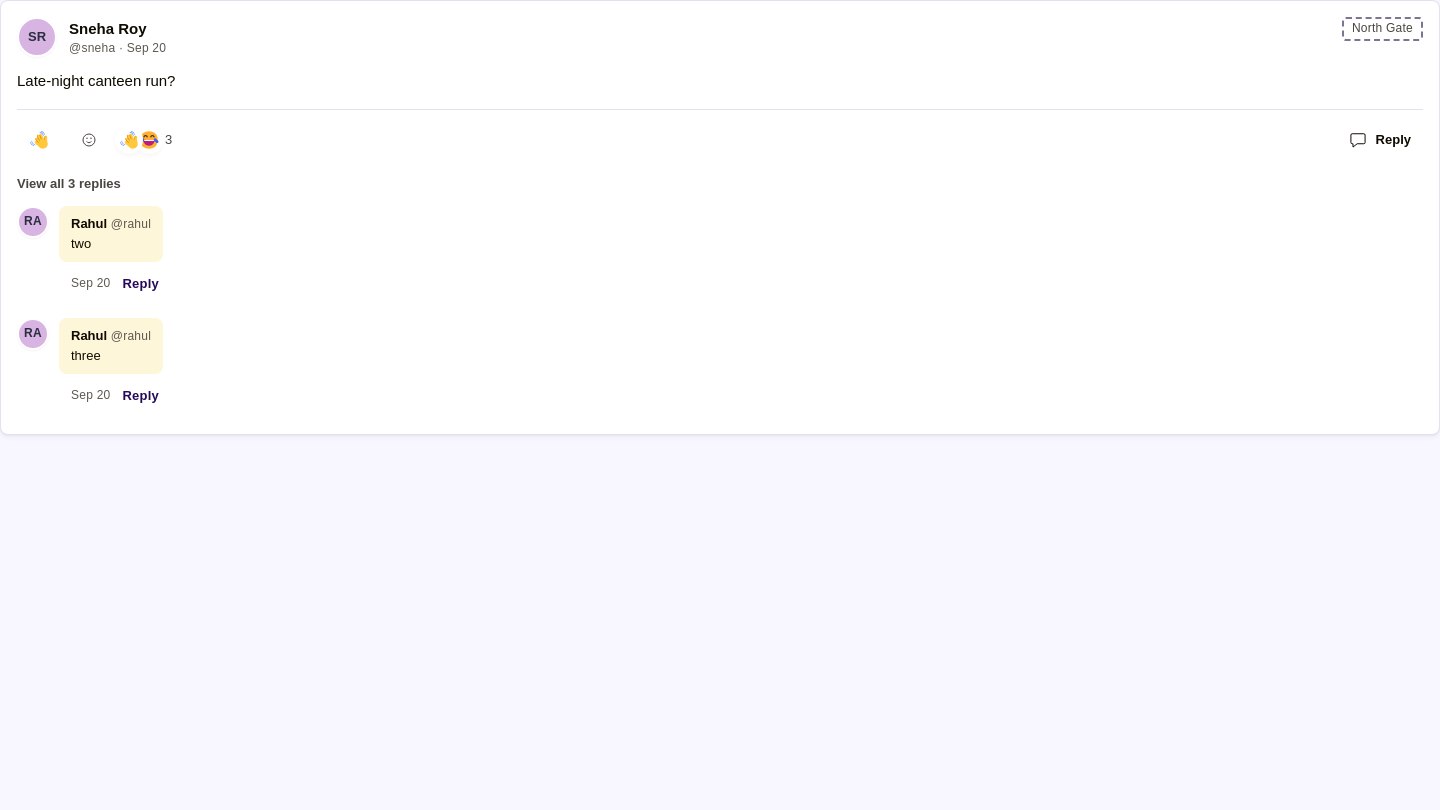
Test case: PostCard › shows the newest two replies; "View all" opens the rest
Expected: the text "one" is not shown
Expected: the text "two" is shown, [71,236,91,251]
Click the button "View all 3 replies" at x=69, y=184, box [17,174,121,194]
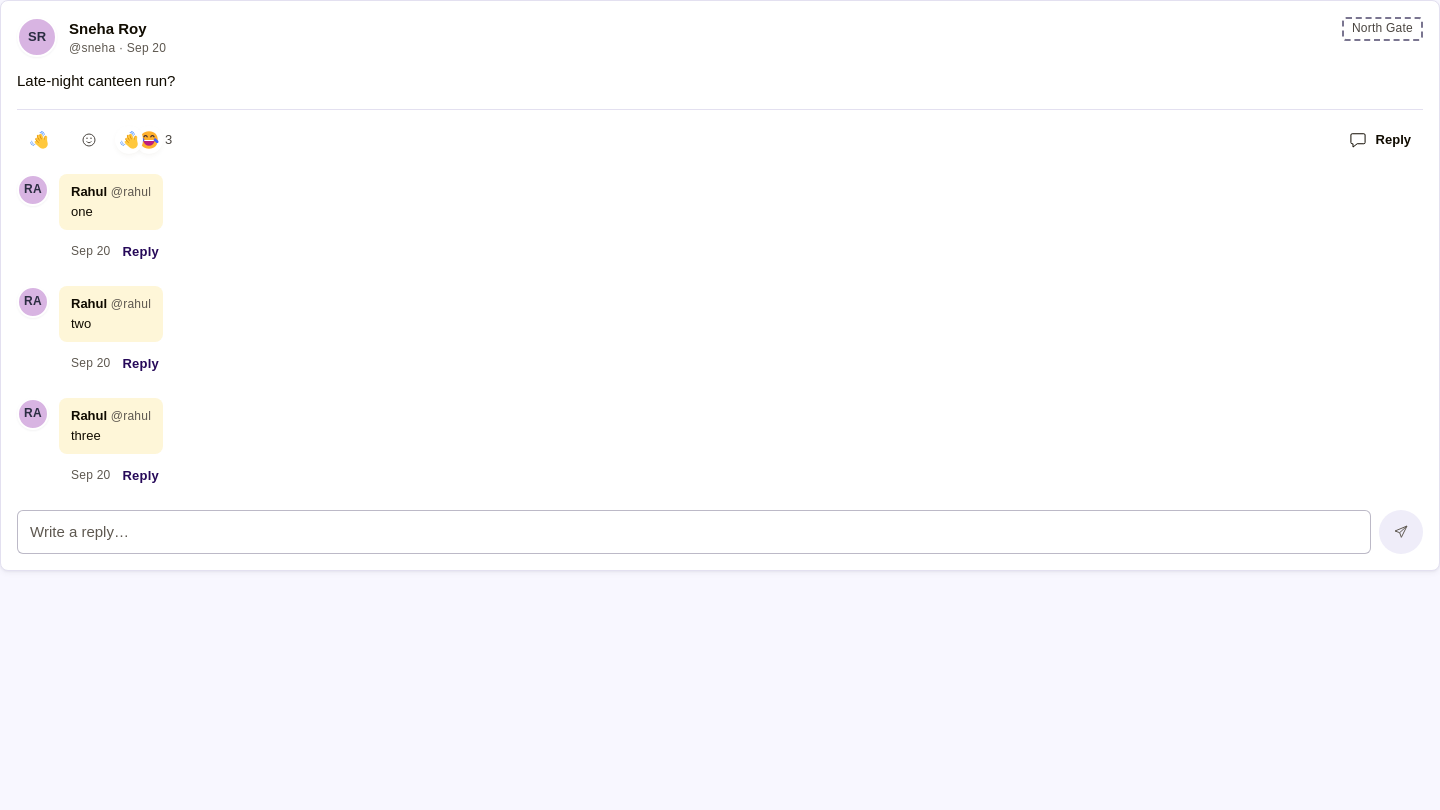
Now the text "one" is shown, box [71,204,93,219]
